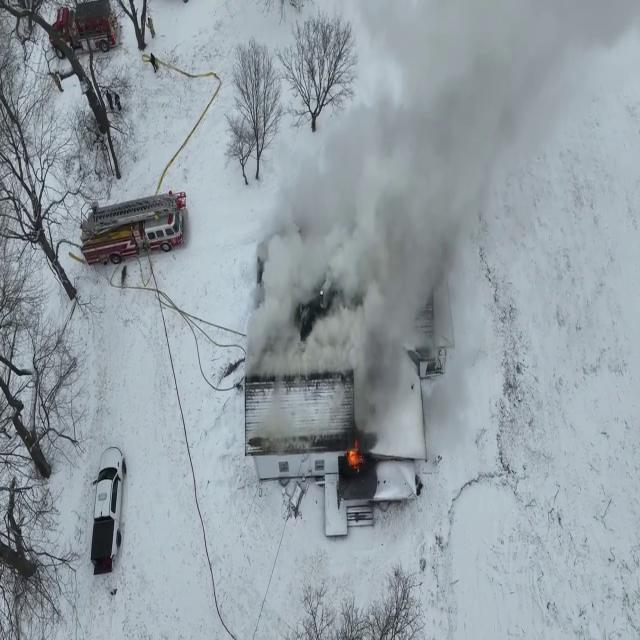Fire: (343, 436, 362, 474)
Smoke: (236, 9, 524, 448)
